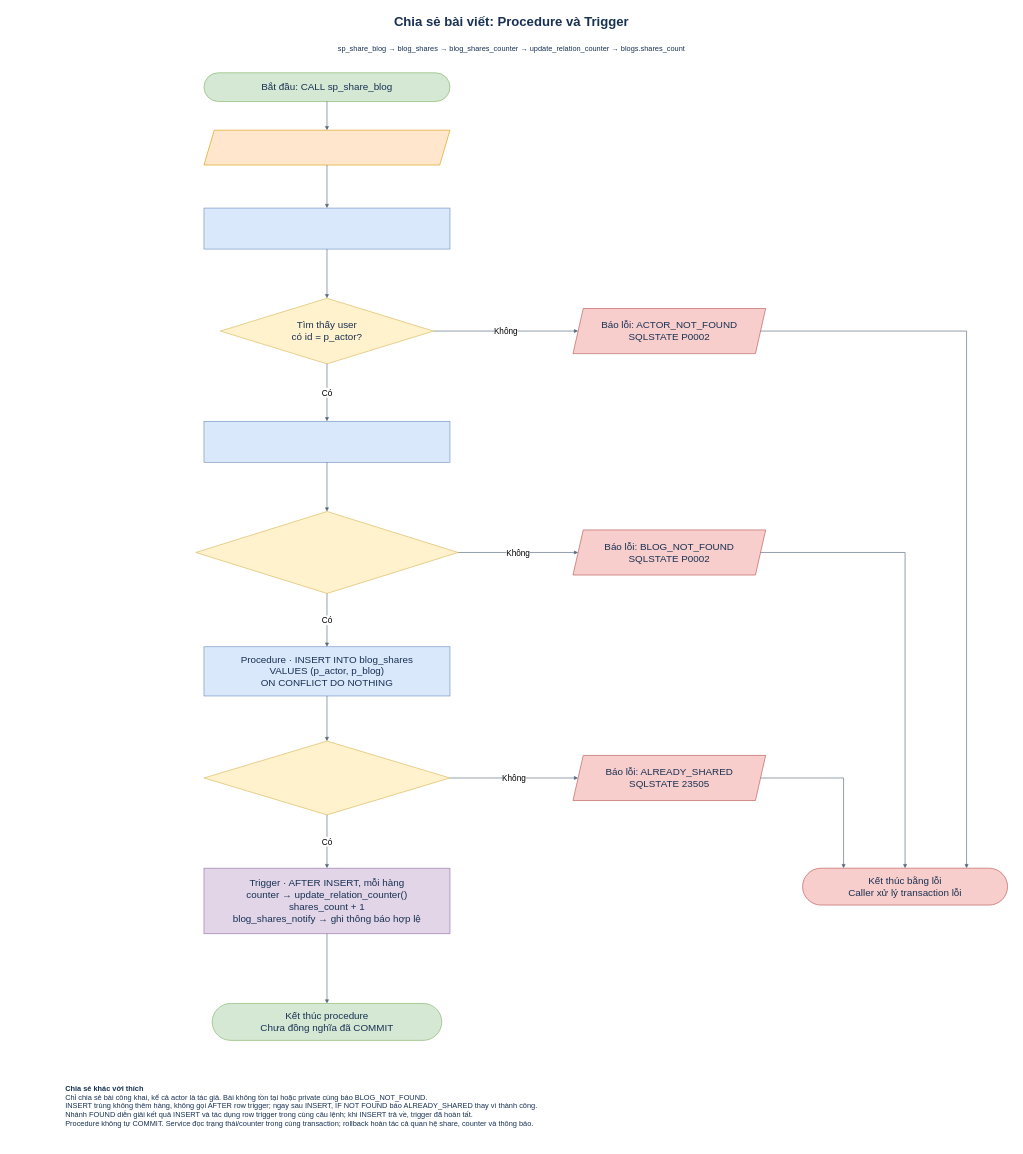
The diagram is 1023 pixels wide and 1154 high, and some of its shapes have lost their labels. The shapes that lost their labels are listed below. From the top down, each one's box as (x1, y1, x2, y2) in pixels, then its label:
(203, 130, 450, 165): Nhận p_actor, p_blog Actor lấy từ session phía server
(203, 208, 450, 249): Procedure · Tìm và khóa user WHERE id = p_actor · FOR KEY SHARE
(203, 421, 450, 462): Procedure · Lấy published vào is_public WHERE id = p_blog · FOR UPDATE
(195, 511, 458, 594): Tìm thấy bài và is_public = true?
(203, 741, 450, 815): Có hàng thực sự được thêm? (FOUND = true)
